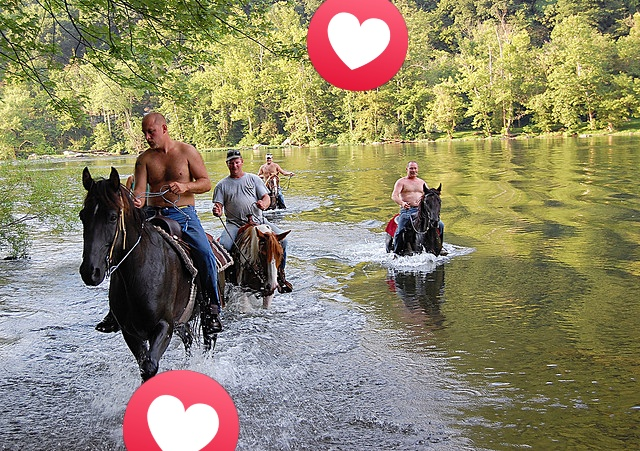love: (123, 370, 239, 451), (307, 0, 408, 91)
